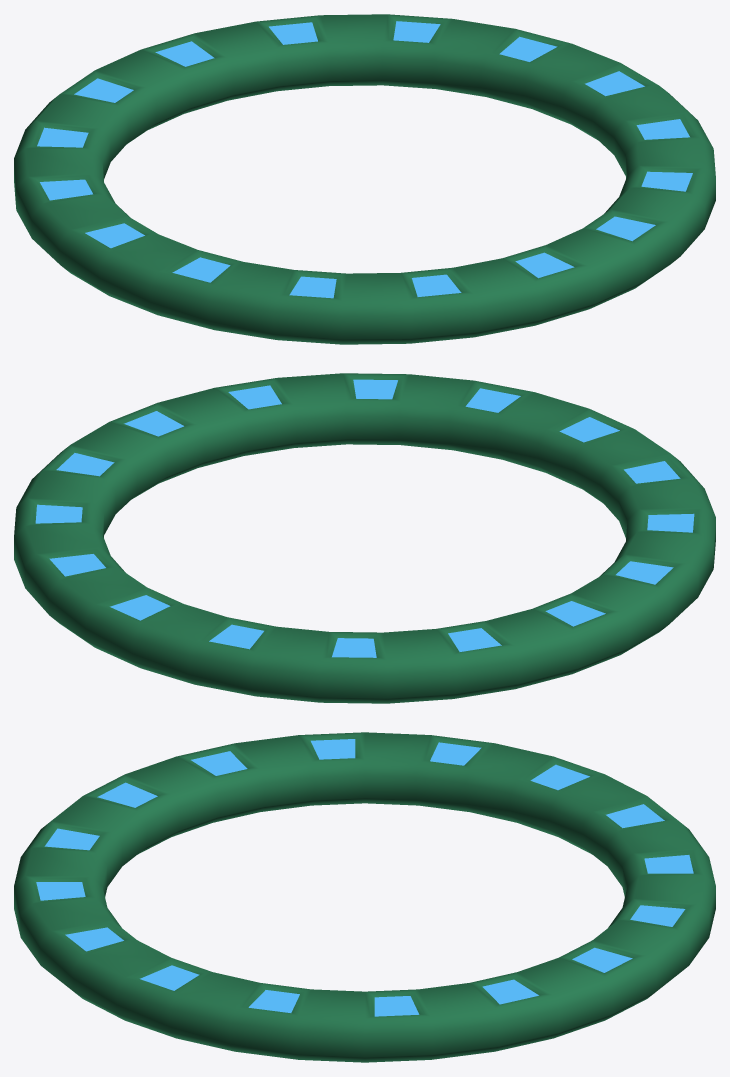
The model's file is green_purple.glb.
The picture shows the model from 3 angles, top to bottom: view 1: azimuth 30°, elevation 25°; view 2: azimuth 150°, elevation 25°; view 3: azimuth 270°, elevation 25°; orthographic projection.
Visible parts, largest first — view 1: MarketTileBuilder; view 2: MarketTileBuilder; view 3: MarketTileBuilder.
Part boxes in pixels (<box>): MarketTileBuilder: <box>14,14,715,344</box>; MarketTileBuilder: <box>14,373,715,703</box>; MarketTileBuilder: <box>14,732,715,1062</box>.
Size of the model in its own units: 1.41 by 0.0957 by 1.41.
